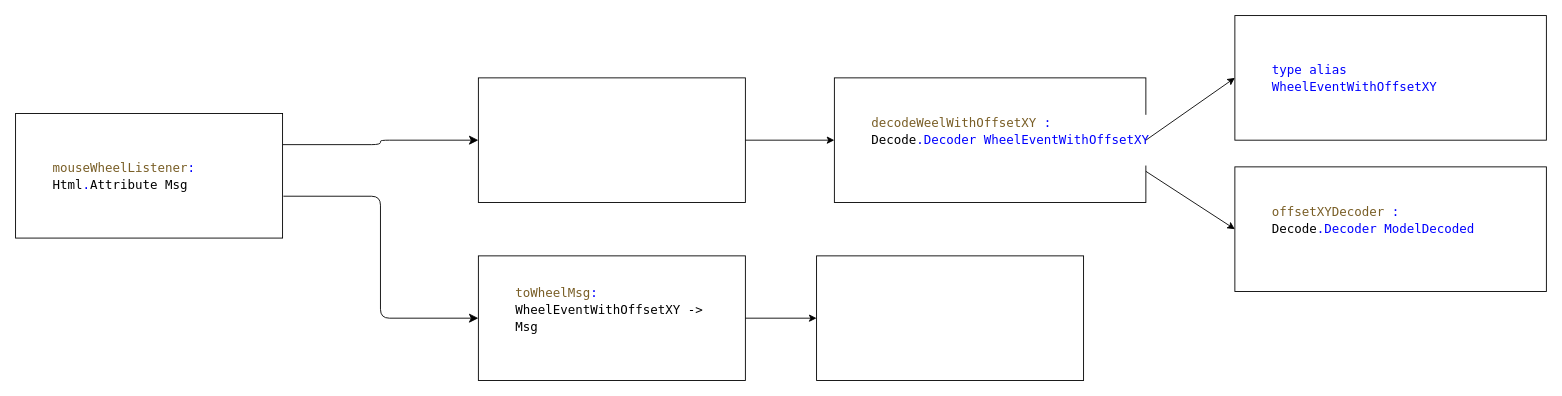
Image size: 1562x396. Some labels were removed from this diagram. Here are the shapes that lost their labels. From the top down, the box of each, then its label:
(477, 77, 745, 202): onWheelOffsetXY : ( WheelEventWithOffsetXY -> msg ) -> Html .Attribute msg
(816, 255, 1084, 380): getZoomFromWheelEvent : WheelEventWithOffsetXY -> ZoomLevel . Msg
